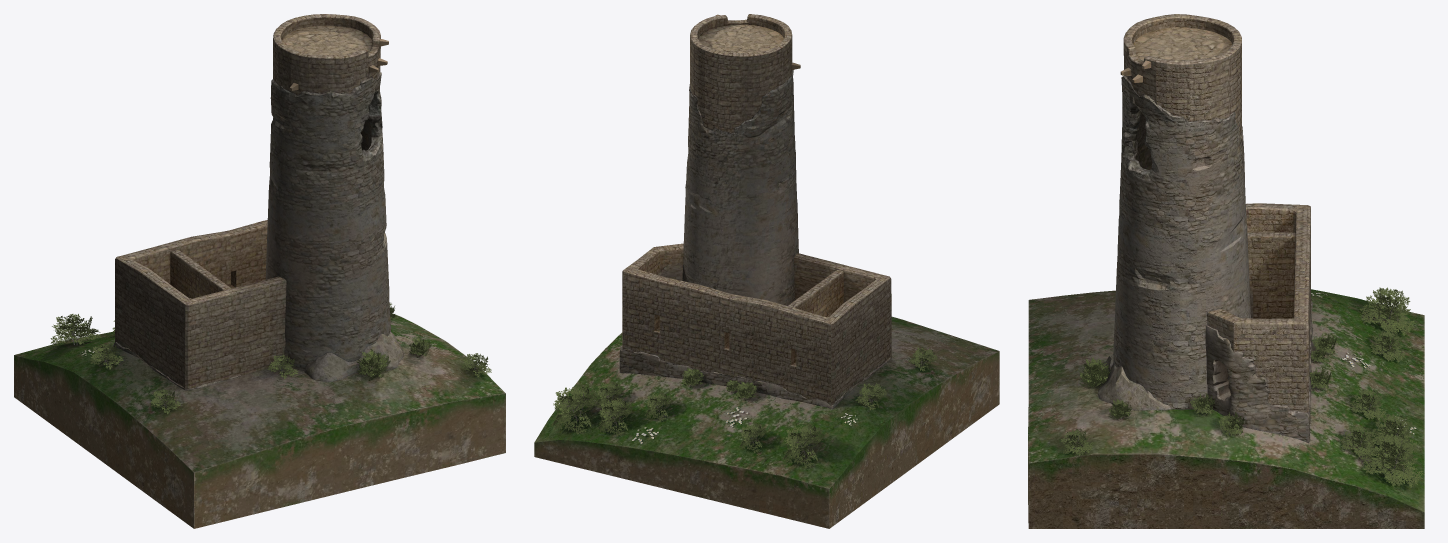
The model's file is torre_albolote.glb.
3 views of the same model, side by side, from view 1: azimuth 30°, elevation 25°; view 2: azimuth 150°, elevation 25°; view 3: azimuth 270°, elevation 25° (orthographic). The views are drawn at different scales.
Visible parts, largest first — view 1: Terreno.001, TorreonViejo, ParedNueva, Bush-05.008, Bush-01.003; view 2: Terreno.001, ParedNueva, TorreonViejo, Bush-05.003, Bush-05.008, Bush-05.005; view 3: Terreno.001, TorreonViejo, ParedNueva, Bush-05.003, Bush-05.008, Bush-05.005, Bush-05.006, Bush-05.004, Bush-05.007, Bush-01.003, Bush-05.001.
Boxes of the visible parts, left/top/right/bottom form: Terreno.001: left=14, top=313, right=505, bottom=528; TorreonViejo: left=265, top=14, right=390, bottom=370; ParedNueva: left=113, top=220, right=403, bottom=390; Bush-05.008: left=50, top=314, right=101, bottom=345; Bush-01.003: left=356, top=349, right=390, bottom=380; Terreno.001: left=534, top=316, right=999, bottom=528; ParedNueva: left=619, top=243, right=891, bottom=408; TorreonViejo: left=682, top=14, right=800, bottom=305; Bush-05.003: left=551, top=384, right=598, bottom=434; Bush-05.008: left=782, top=422, right=823, bottom=468; Bush-05.005: left=597, top=397, right=632, bottom=436; Terreno.001: left=1028, top=289, right=1424, bottom=528; TorreonViejo: left=1113, top=14, right=1250, bottom=409; ParedNueva: left=1098, top=203, right=1312, bottom=442; Bush-05.003: left=1360, top=433, right=1424, bottom=487; Bush-05.008: left=1359, top=287, right=1415, bottom=335; Bush-05.005: left=1370, top=414, right=1418, bottom=453; Bush-05.006: left=1340, top=425, right=1377, bottom=456; Bush-05.004: left=1349, top=389, right=1386, bottom=420; Bush-05.007: left=1369, top=331, right=1405, bottom=362; Bush-01.003: left=1078, top=357, right=1110, bottom=387; Bush-05.001: left=1061, top=428, right=1093, bottom=455.
Size of the model in its own units: 0.856 by 1.01 by 0.856.
Materials: 7 (7 with a texture image).
